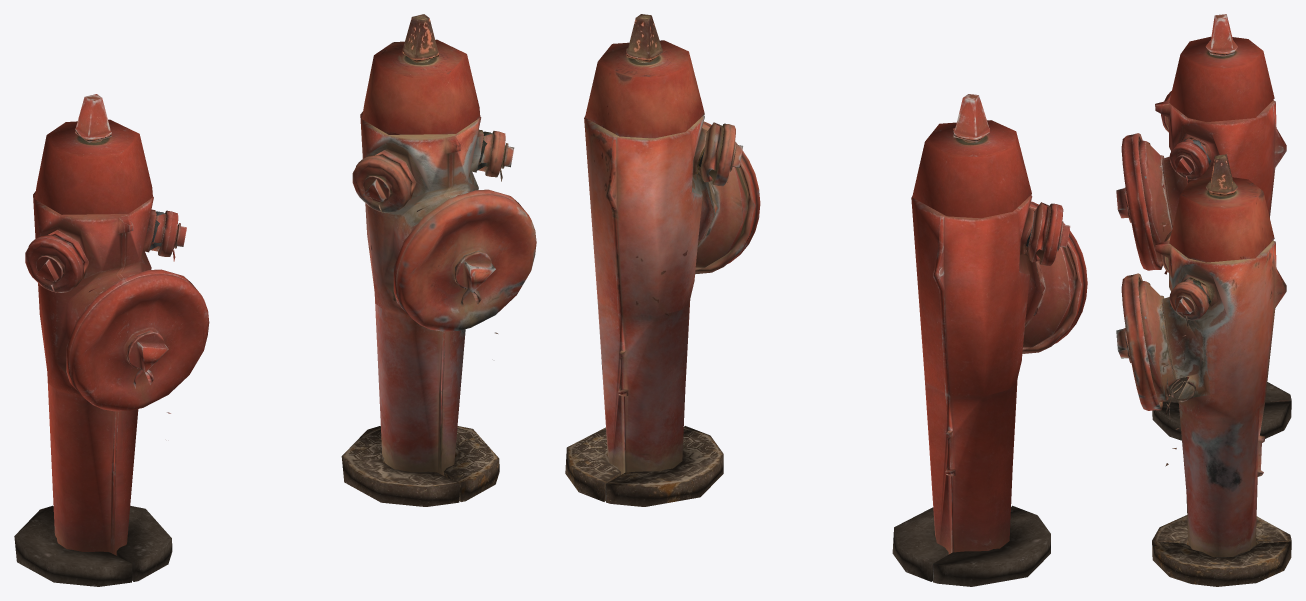
Rendered from fire_hydrant.glb.
The picture shows the model from 3 angles, left to right: view 1: azimuth 30°, elevation 25°; view 2: azimuth 150°, elevation 25°; view 3: azimuth 270°, elevation 25°; orthographic projection. The views are drawn at different scales.
Visible parts, largest first — view 1: fire_hydrant_aged, fire_hydrant, fire_hydrant_cap_01_aged, fire_hydrant_cap_01, fire_hydrant_cap_03_aged, fire_hydrant_cap_03, fire_hydrant_cap_02_aged, fire_hydrant_cap_02; view 2: fire_hydrant, fire_hydrant_aged, fire_hydrant_cap_01_aged, fire_hydrant_cap_01, fire_hydrant_cap_03, fire_hydrant_cap_03_aged; view 3: fire_hydrant_aged, fire_hydrant, fire_hydrant_cap_01_aged, fire_hydrant_cap_01, fire_hydrant_cap_02, fire_hydrant_cap_02_aged, fire_hydrant_chain_aged.
Boxes of the visible parts, left/top/right/bottom form: fire_hydrant_aged: left=341, top=14, right=499, bottom=506; fire_hydrant: left=14, top=94, right=172, bottom=586; fire_hydrant_cap_01_aged: left=393, top=189, right=536, bottom=331; fire_hydrant_cap_01: left=66, top=269, right=209, bottom=411; fire_hydrant_cap_03_aged: left=352, top=155, right=411, bottom=213; fire_hydrant_cap_03: left=25, top=235, right=83, bottom=292; fire_hydrant_cap_02_aged: left=485, top=131, right=514, bottom=177; fire_hydrant_cap_02: left=158, top=210, right=186, bottom=256; fire_hydrant: left=892, top=94, right=1075, bottom=586; fire_hydrant_aged: left=565, top=14, right=747, bottom=506; fire_hydrant_cap_01_aged: left=695, top=121, right=760, bottom=274; fire_hydrant_cap_01: left=1022, top=201, right=1087, bottom=353; fire_hydrant_cap_03: left=1039, top=203, right=1070, bottom=265; fire_hydrant_cap_03_aged: left=712, top=123, right=742, bottom=186; fire_hydrant_aged: left=1139, top=154, right=1291, bottom=586; fire_hydrant: left=1139, top=14, right=1291, bottom=440; fire_hydrant_cap_01_aged: left=1116, top=273, right=1162, bottom=410; fire_hydrant_cap_01: left=1116, top=133, right=1162, bottom=270; fire_hydrant_cap_02: left=1169, top=141, right=1208, bottom=179; fire_hydrant_cap_02_aged: left=1169, top=281, right=1209, bottom=320; fire_hydrant_chain_aged: left=1163, top=308, right=1195, bottom=466.
Size of the model in its own units: 0.8746 by 0.7992 by 0.3173.
Materials: 2 (2 with a texture image).
